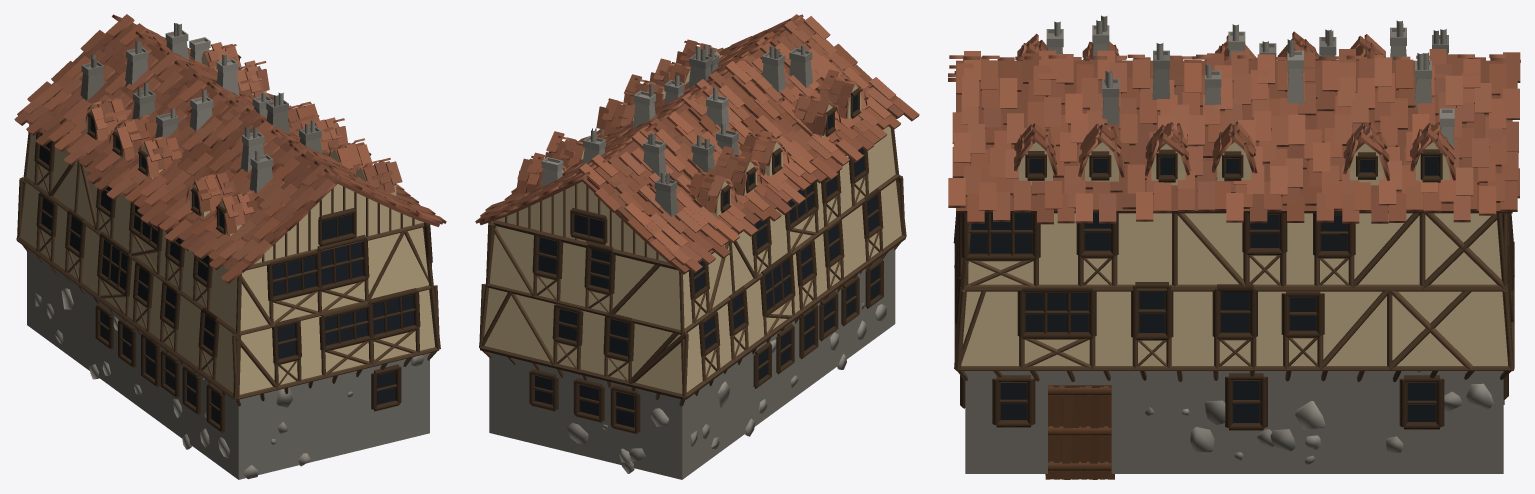
The model's file is house_02.glb.
3 renders of one model, left to right at view 1: azimuth 30°, elevation 25°; view 2: azimuth 150°, elevation 25°; view 3: azimuth 270°, elevation 25°, orthographic. The views are drawn at different scales.
Parts seen in each view (by area): view 1: house_02; view 2: house_02; view 3: house_02.
Boxes of the visible parts, x1,y1,x2,y2 form: house_02: (14, 14, 446, 479); house_02: (475, 14, 919, 479); house_02: (948, 15, 1520, 479).
Bounding box in the file's own units: 6.31 × 8.26 × 10.8.
